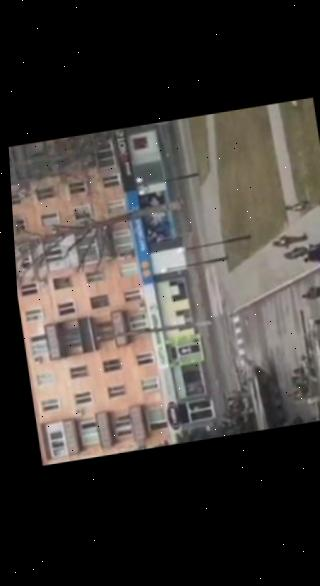person: (269, 229, 308, 251), (282, 196, 320, 214), (281, 243, 314, 261), (300, 242, 320, 268), (299, 280, 320, 301), (284, 389, 308, 405), (287, 414, 314, 425), (311, 310, 320, 329)
tank: (273, 311, 320, 425), (229, 350, 287, 434)
